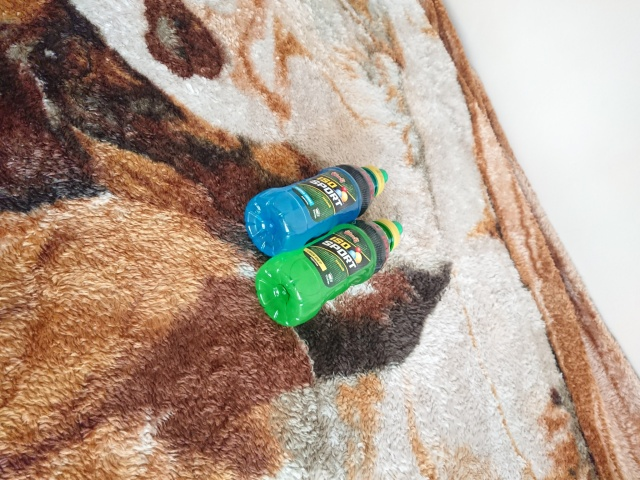Vindi Iso Sport Forest Strawberries 500mL: (242, 162, 390, 259)
Vindi Iso Sport Lemon-Grapefruit 500mL: (252, 215, 405, 331)
